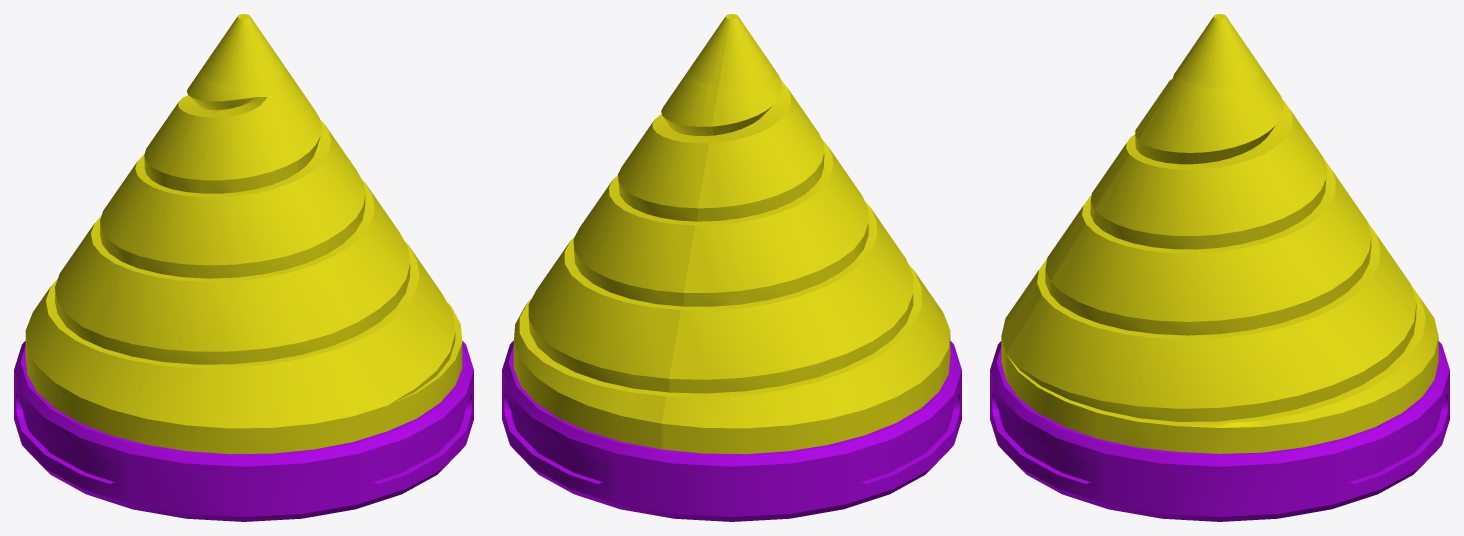
File: p_mesh_drillspawner_drillpart_emissive.fbx
3 views of the same model, side by side, from view 1: azimuth 30°, elevation 25°; view 2: azimuth 150°, elevation 25°; view 3: azimuth 270°, elevation 25° (orthographic).
Parts seen in each view (by area): view 1: part4.001, part4; view 2: part4.001, part4; view 3: part4.001, part4.
Part boxes in pixels (bbox=[...]): part4.001: bbox=[25, 14, 462, 454]; part4: bbox=[14, 341, 473, 521]; part4.001: bbox=[513, 14, 950, 454]; part4: bbox=[502, 340, 961, 521]; part4.001: bbox=[1001, 14, 1438, 453]; part4: bbox=[990, 341, 1449, 521].
Size of the model in its own units: 15.77 by 15.55 by 15.77.
